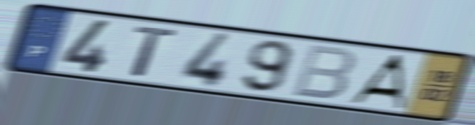4: (177, 30, 230, 89), (59, 16, 111, 75)
9: (241, 39, 296, 94)
A: (345, 53, 408, 111)
B: (289, 42, 358, 102)
T: (129, 24, 180, 80)
